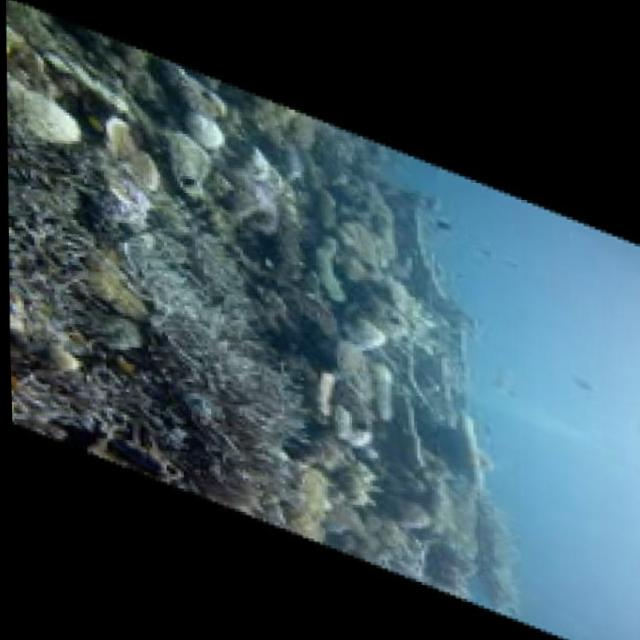Dead Coral: (143, 230, 331, 509), (4, 137, 100, 293)
